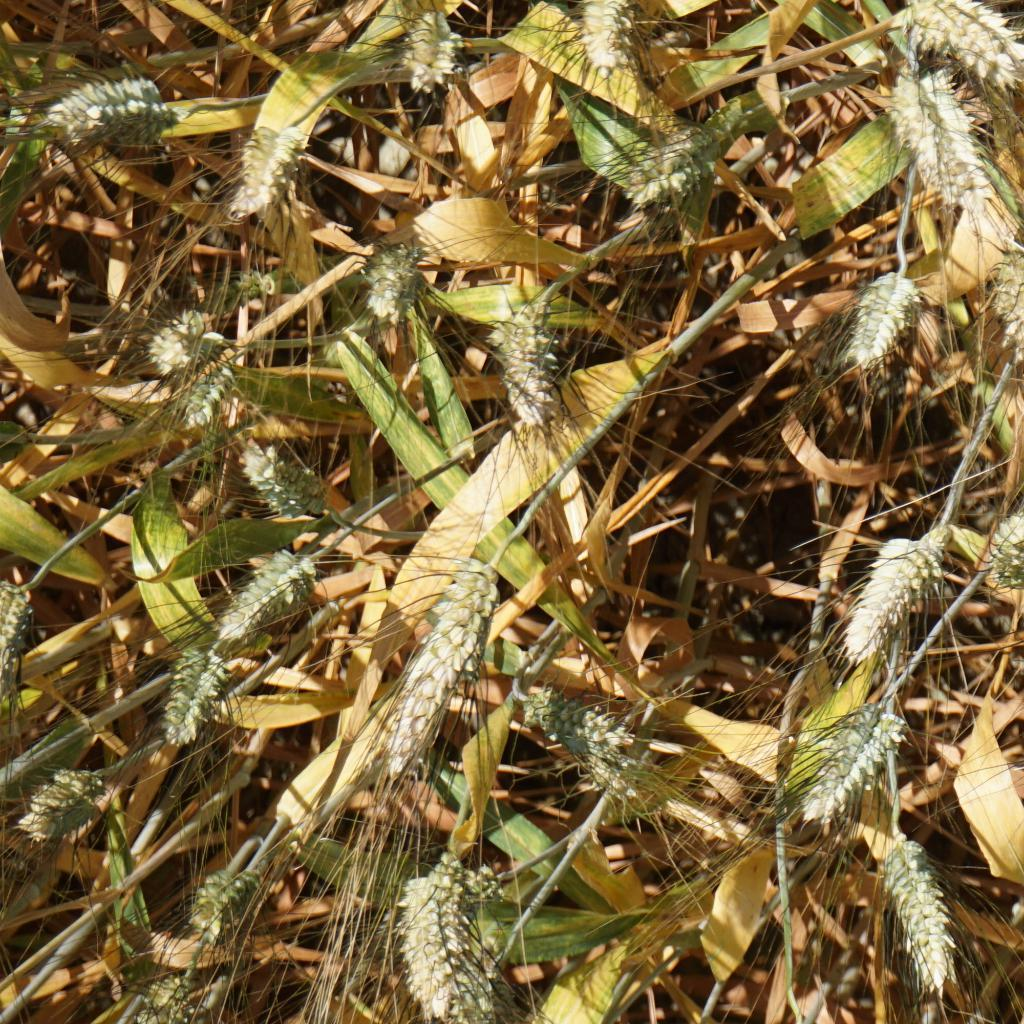0-0: (389, 551, 489, 775), (798, 705, 914, 823), (890, 73, 989, 200), (877, 834, 955, 983), (841, 537, 933, 657), (906, 0, 1024, 86), (516, 684, 635, 764), (210, 562, 324, 634), (845, 275, 919, 379), (629, 118, 709, 214), (494, 302, 562, 414), (226, 448, 322, 520), (406, 870, 463, 982), (227, 123, 302, 207), (160, 642, 218, 747), (58, 80, 174, 130), (24, 762, 95, 841), (397, 13, 463, 89), (351, 239, 412, 321), (0, 574, 38, 698), (583, 0, 647, 69), (147, 311, 210, 375), (138, 968, 202, 1024), (200, 869, 259, 928), (179, 361, 235, 422), (434, 967, 498, 1020), (988, 503, 1024, 596), (210, 263, 284, 307), (1000, 233, 1024, 363), (453, 866, 500, 908)
